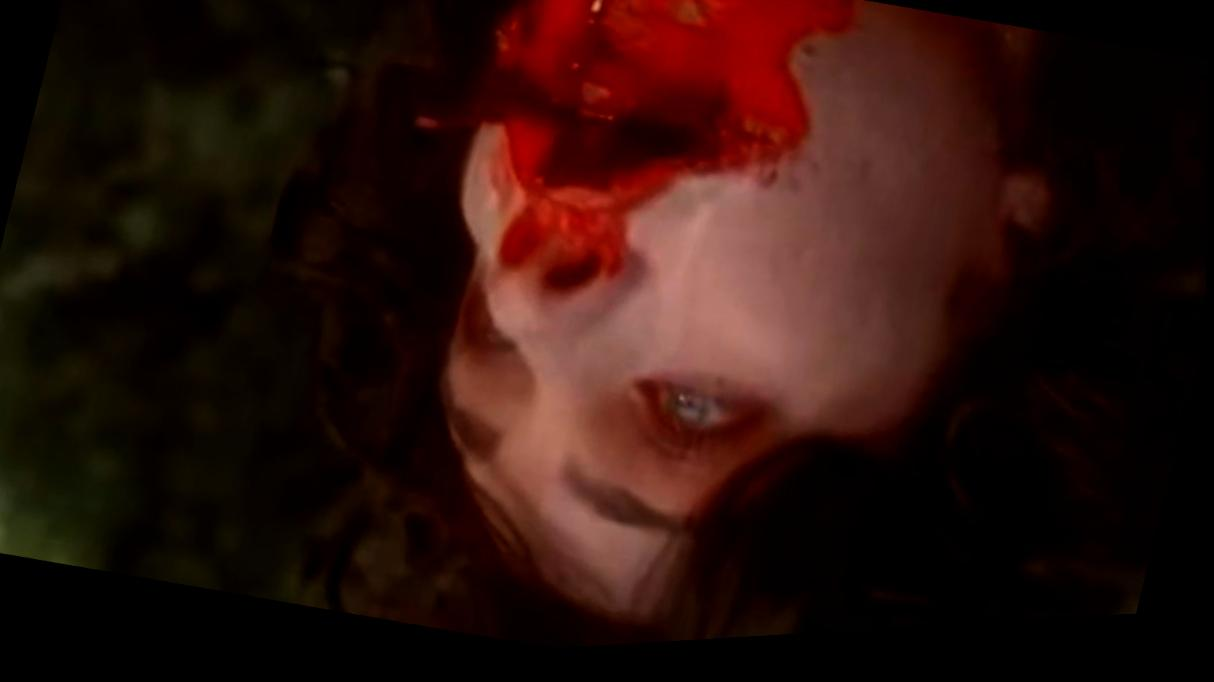Fire: (418, 0, 853, 299)
